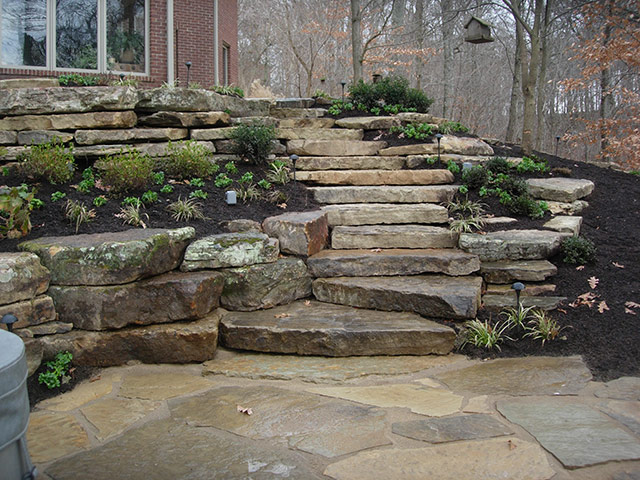upstairs: (333, 212, 447, 366)
